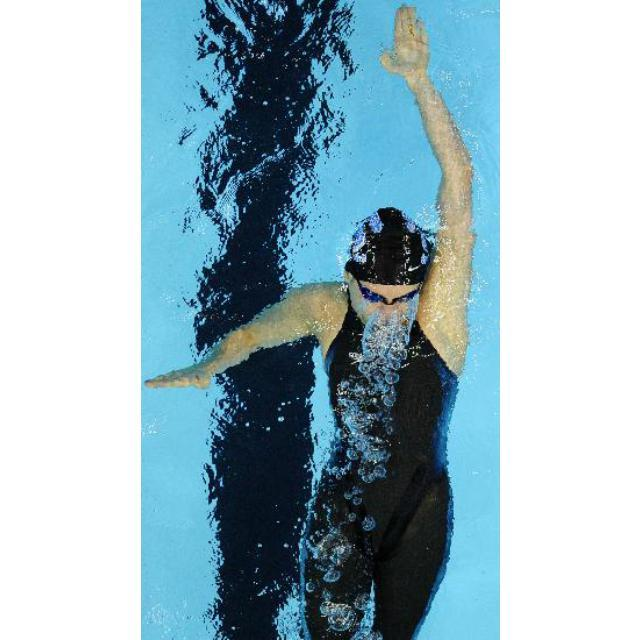human: (142, 8, 473, 638)
